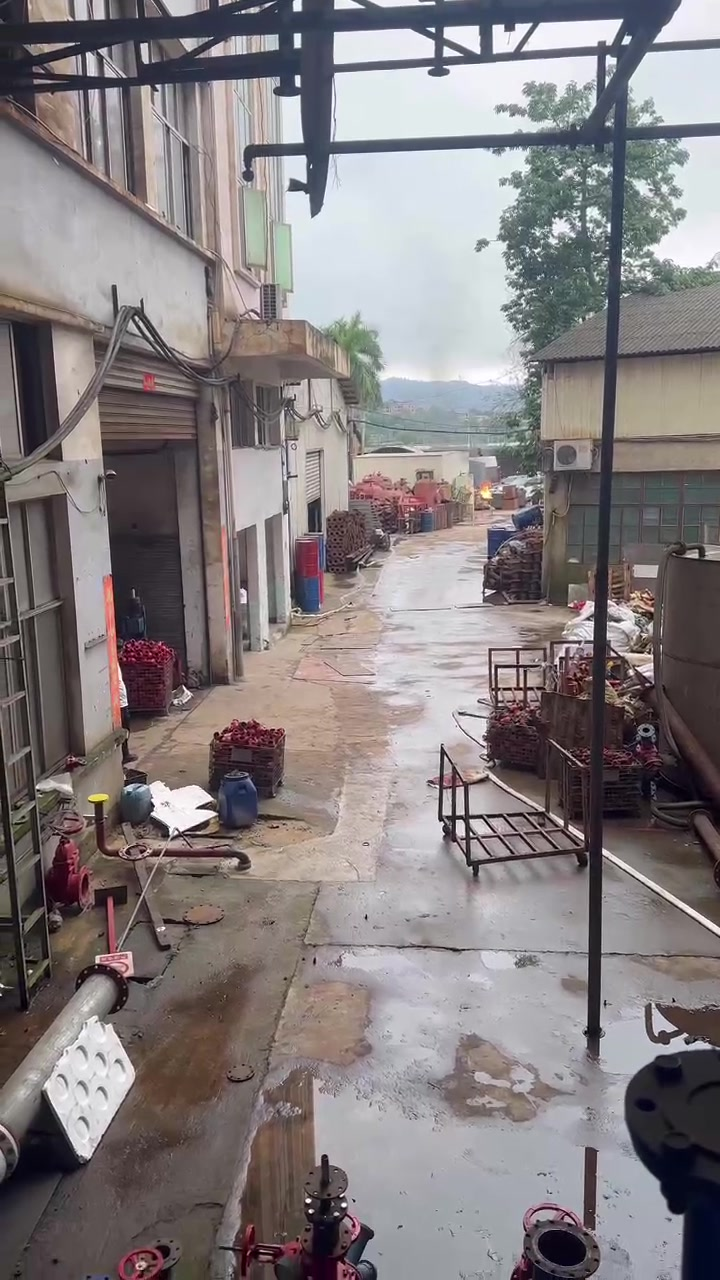fire: (480, 481, 492, 498)
